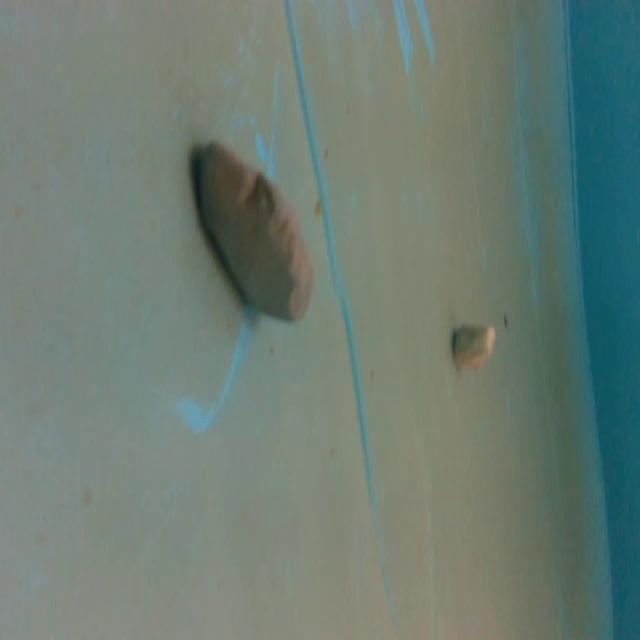rock: (190, 126, 321, 332), (447, 318, 502, 377)
